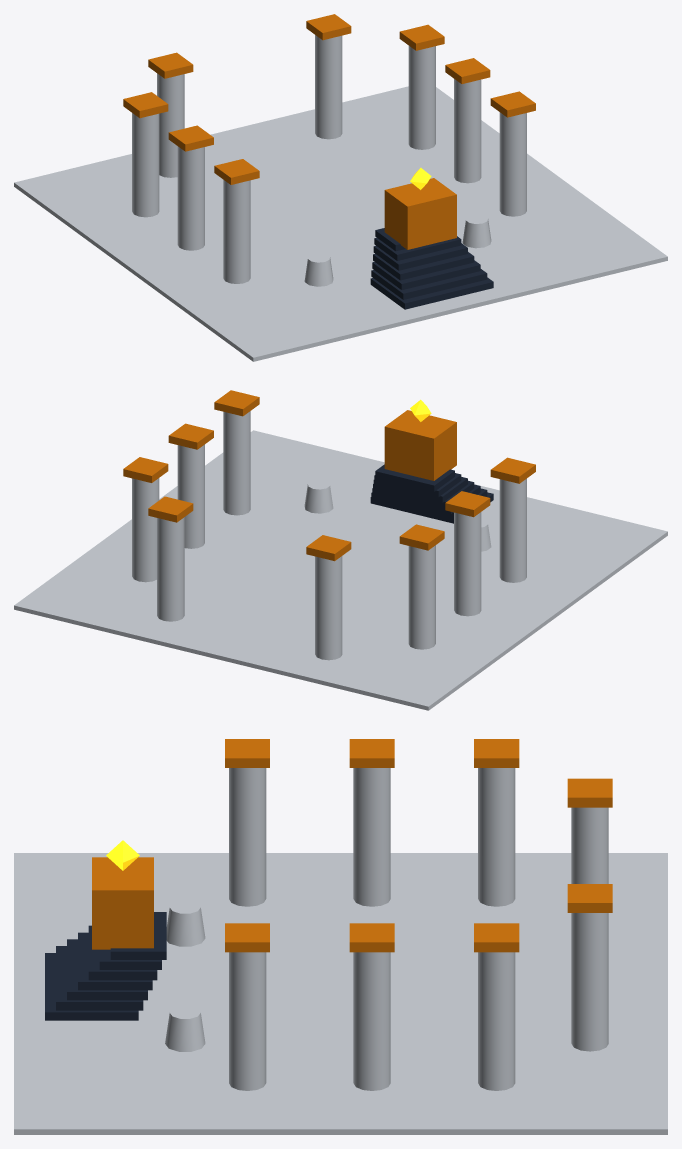
File: vol_05.glb
The picture shows the model from 3 angles, top to bottom: view 1: azimuth 30°, elevation 25°; view 2: azimuth 150°, elevation 25°; view 3: azimuth 270°, elevation 25°; orthographic projection. The views are drawn at different scales.
Parts seen in each view (by area): view 1: scenario_tile_box_floor, VOL_05, vol_imperial_throne, vol_crown_seal_pedestals; view 2: scenario_tile_box_floor, VOL_05, vol_imperial_throne, vol_crown_seal_pedestals; view 3: scenario_tile_box_floor, VOL_05, vol_imperial_throne, vol_crown_seal_pedestals.
Part boxes in pixels (x1,y1,x2,y2): scenario_tile_box_floor: (14,86,667,361); VOL_05: (123,14,535,309); vol_imperial_throne: (384,178,456,249); vol_crown_seal_pedestals: (304,214,491,286); scenario_tile_box_floor: (14,430,667,710); VOL_05: (123,390,535,660); vol_imperial_throne: (384,410,456,480); vol_crown_seal_pedestals: (304,480,491,551); scenario_tile_box_floor: (14,853,667,1134); VOL_05: (45,739,612,1090); vol_imperial_throne: (92,857,153,949); vol_crown_seal_pedestals: (165,901,205,1051).
Bounding box in the file's own units: 42 × 11.1 × 42.
